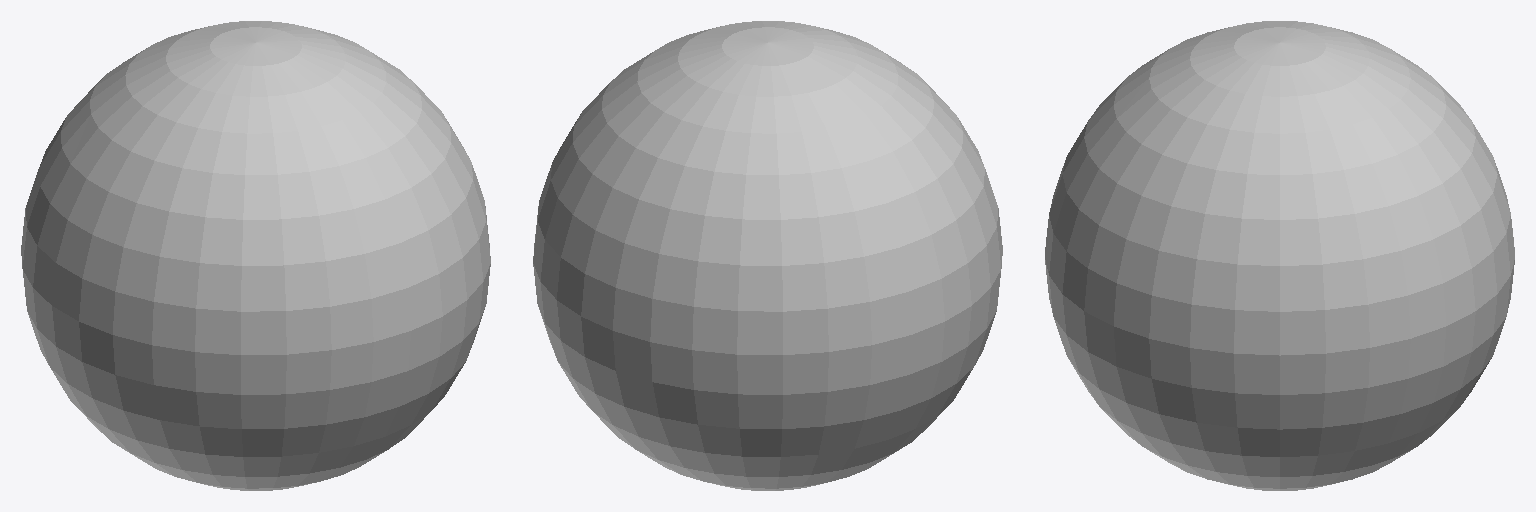
File: camera4.obj
3 views of the same model, side by side, from view 1: azimuth 30°, elevation 25°; view 2: azimuth 150°, elevation 25°; view 3: azimuth 270°, elevation 25° (orthographic).
Visible parts, largest first — view 1: camera4_Sphere.003; view 2: camera4_Sphere.003; view 3: camera4_Sphere.003.
Part boxes in pixels (bbox=[...]): camera4_Sphere.003: bbox=[21, 21, 490, 490]; camera4_Sphere.003: bbox=[533, 21, 1002, 490]; camera4_Sphere.003: bbox=[1045, 21, 1514, 490].
Size of the model in its own units: 4.06 by 4.06 by 4.06.